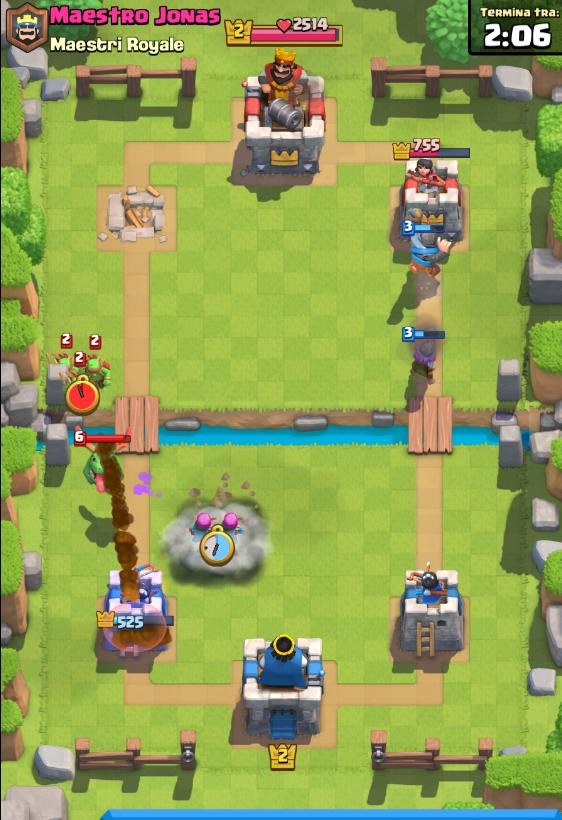ally_archer: (188, 508, 216, 562), (218, 510, 247, 555)
ally_knight: (394, 215, 455, 290)
ally_musketeer: (399, 325, 449, 386)
enemy_baby_dragon: (74, 430, 137, 491)
enemy_spear_goblin: (81, 335, 111, 388), (59, 334, 84, 379)
